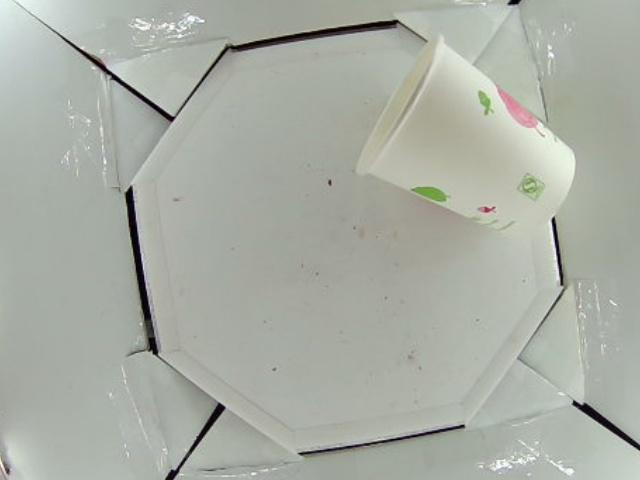Cup: (351, 37, 580, 233)
